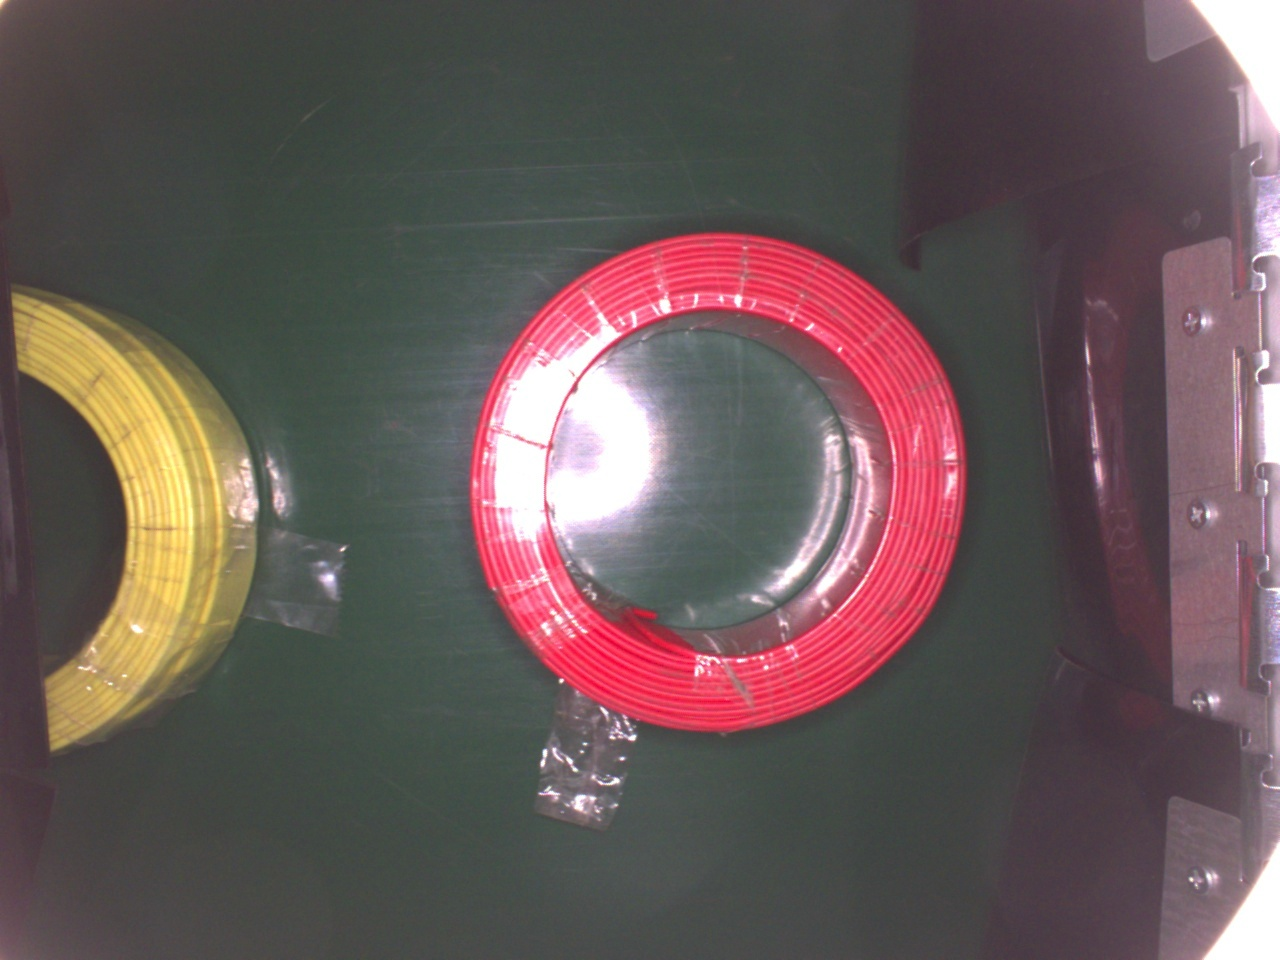red: (467, 230, 966, 736)
yellow: (5, 280, 262, 754)
